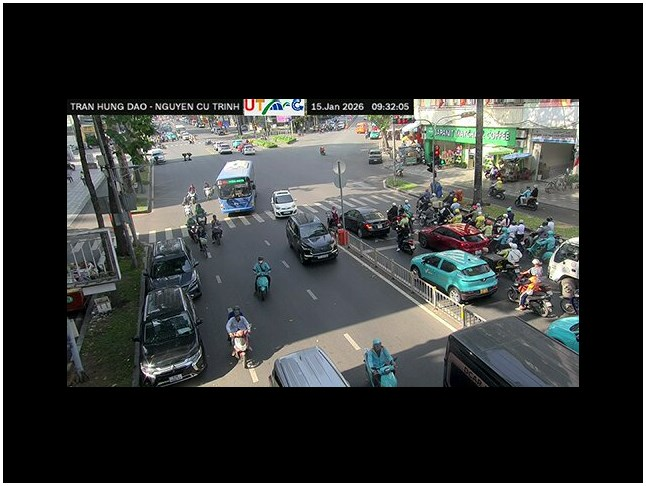bus: (215, 159, 256, 215)
car: (440, 314, 578, 387), (133, 284, 207, 387), (409, 249, 498, 303), (270, 345, 351, 386), (285, 208, 338, 265), (419, 221, 497, 257), (342, 207, 391, 239), (548, 238, 579, 287), (544, 314, 579, 355), (270, 190, 297, 218), (516, 186, 539, 211), (368, 151, 382, 164)
